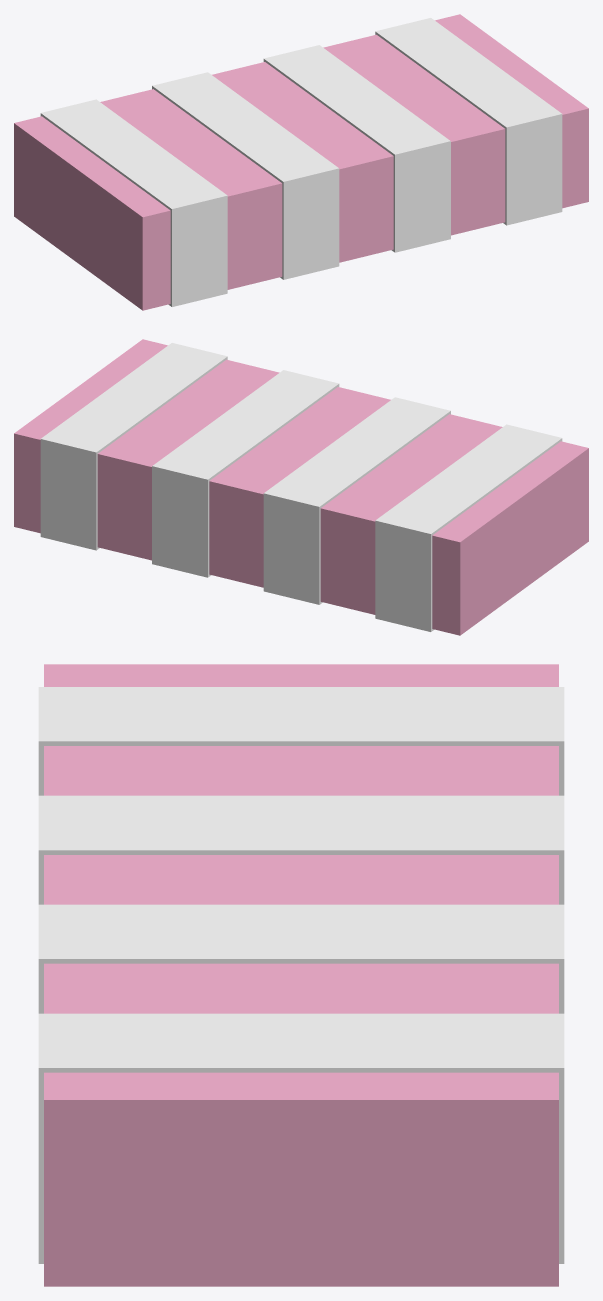
File: platform_candy.glb
3 views of the same model, one above another, from view 1: azimuth 30°, elevation 25°; view 2: azimuth 150°, elevation 25°; view 3: azimuth 270°, elevation 25° (orthographic). The views are drawn at different scales.
Visible parts, largest first — view 1: platform_candy; view 2: platform_candy; view 3: platform_candy.
Boxes of the visible parts, x1=… form: platform_candy: x1=14, y1=14, x2=588, y2=310; platform_candy: x1=14, y1=339, x2=588, y2=635; platform_candy: x1=38, y1=664, x2=564, y2=1286.
Bounding box in the file's own units: 2 × 0.42 × 1.02.
